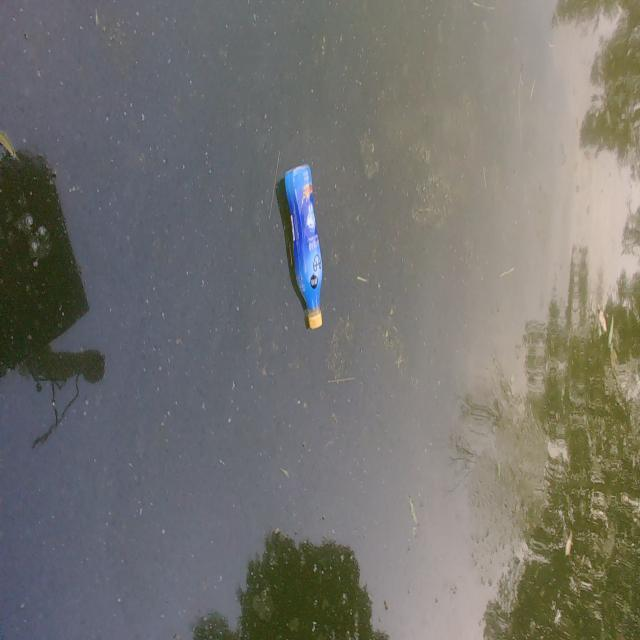garbage: (283, 163, 324, 330)
